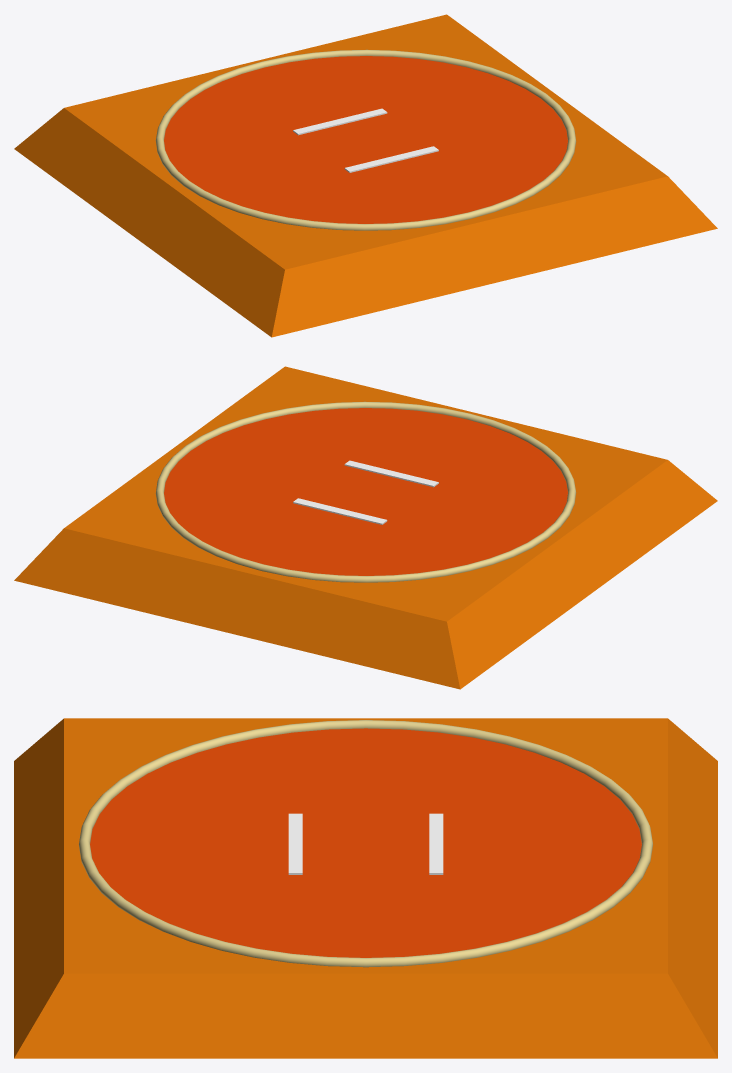
The model's file is SumoPlatform.fbx.
3 views of the same model, one above another, from view 1: azimuth 30°, elevation 25°; view 2: azimuth 150°, elevation 25°; view 3: azimuth 270°, elevation 25° (orthographic). The views are drawn at different scales.
Visible parts, largest first — view 1: Cube, Cylinder, BezierCircle, Cube.002, Cube.001; view 2: Cube, Cylinder, BezierCircle, Cube.001, Cube.002; view 3: Cube, Cylinder, BezierCircle, Cube.001, Cube.002.
Boxes of the visible parts, x1,y1,x2,y2 form: Cube: (14,14,717,337); Cylinder: (164,56,567,223); BezierCircle: (155,49,576,230); Cube.002: (344,146,438,172); Cube.001: (293,108,387,135); Cube: (14,366,717,689); Cylinder: (164,408,567,575); BezierCircle: (155,401,576,582); Cube.001: (293,498,387,524); Cube.002: (344,460,438,487); Cube: (14,718,717,1058); Cylinder: (90,728,641,957); BezierCircle: (78,720,653,967); Cube.001: (429,813,443,874); Cube.002: (288,813,302,874).
Size of the model in its own units: 1000 by 110 by 1000.
